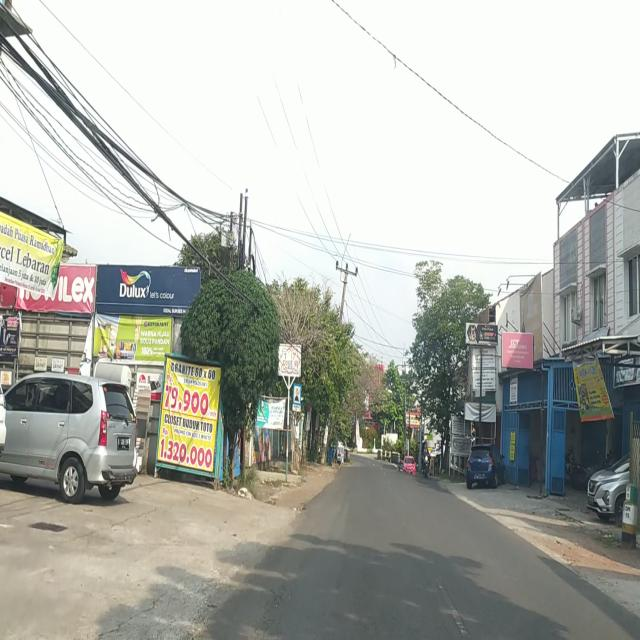Drain Hole: (244, 578, 293, 640)
